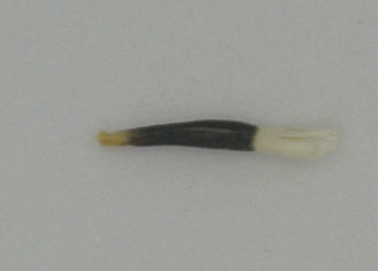เมล็ดดีติดกัน: (99, 118, 343, 162)
